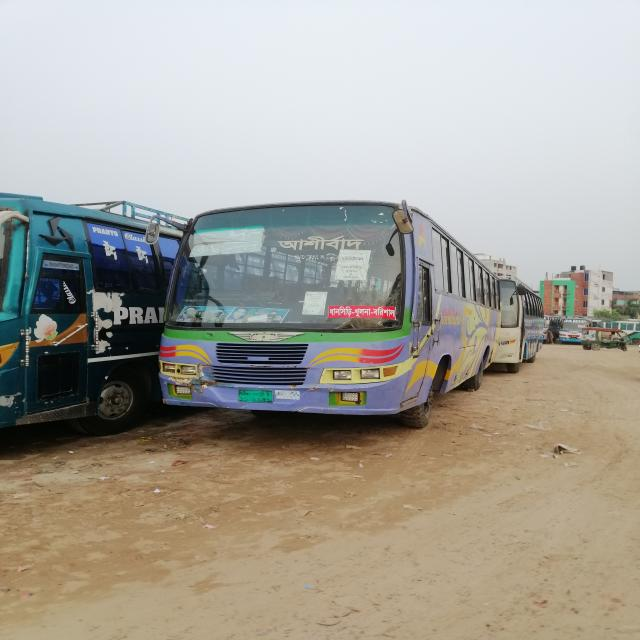Bus: (146, 198, 506, 428)
